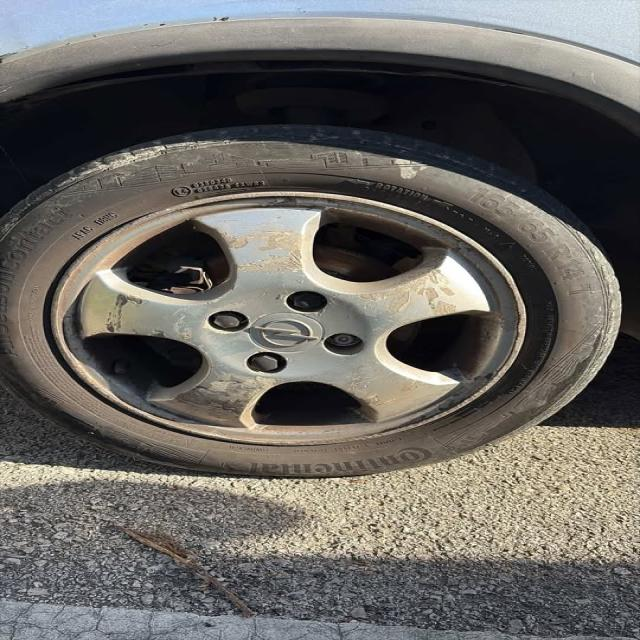jante: (48, 191, 528, 446)
parafuso: (292, 293, 323, 310), (213, 313, 241, 330), (252, 355, 278, 372), (332, 332, 354, 346)
roda: (0, 123, 623, 478)
